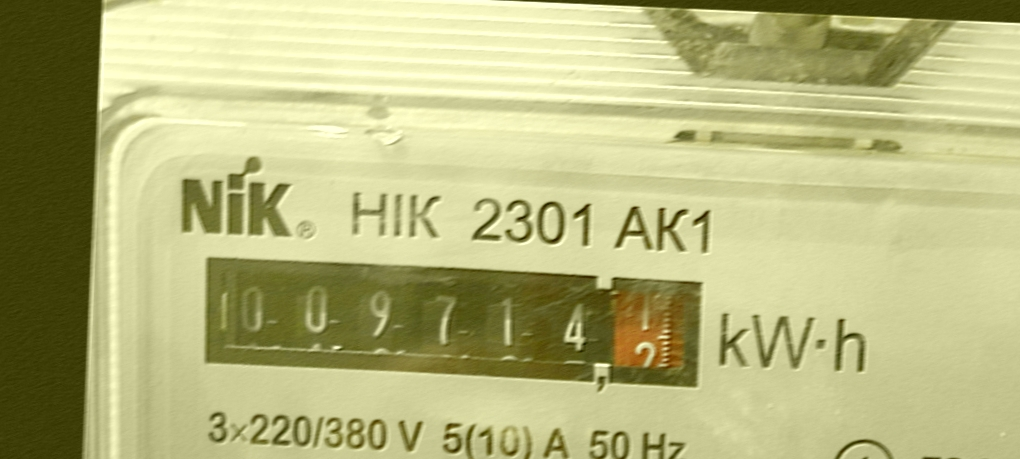0: (237, 282, 268, 336), (302, 281, 331, 336)
1: (496, 293, 520, 349), (637, 290, 654, 333)
2: (633, 338, 658, 369)
4: (560, 299, 591, 355)
7: (431, 293, 459, 347)
9: (364, 287, 395, 340)
screen: (187, 241, 720, 407)
